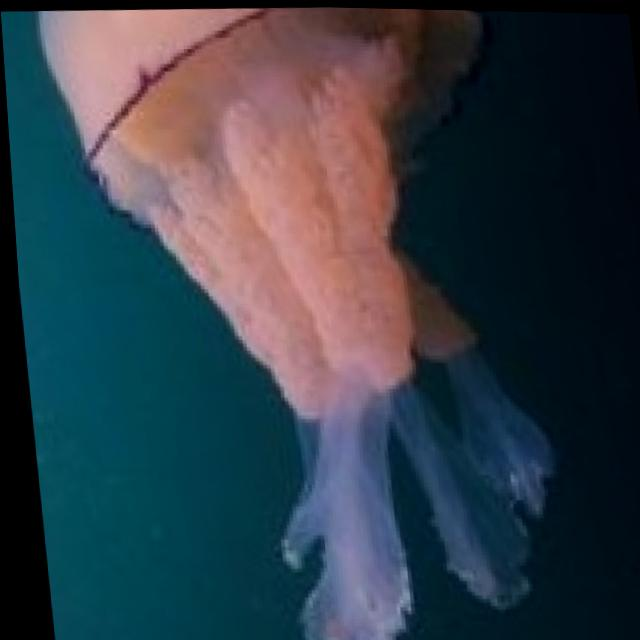Box-jellyfish: (29, 1, 565, 640)
